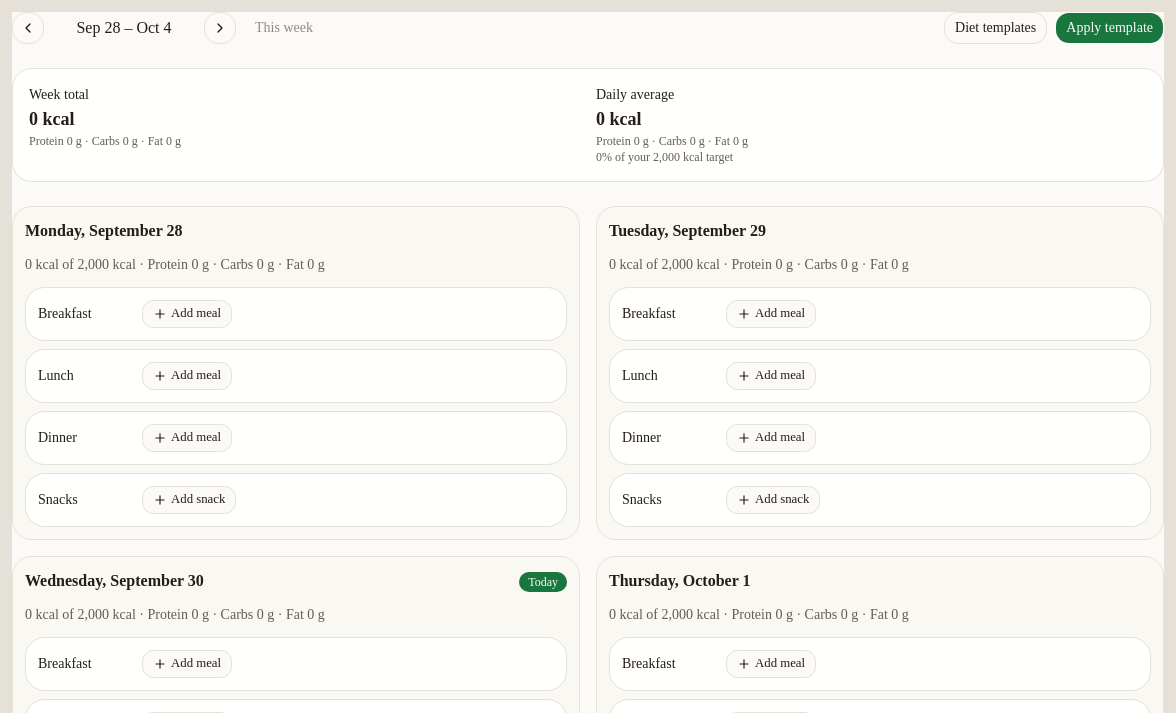
Test: PlanView › moves between weeks and back to this one
The width and height of the screenshot is (1176, 713).
Check: the text "Sep 28 – Oct 4" is shown, box [76,19,172,36]
Check: the button "This week" is disabled, box [244,12,324,44]
What coordinates should you click on to do the following:
click the button named "Next week"
I would click on:
 (220, 28)
Its box is [204,12,236,44].
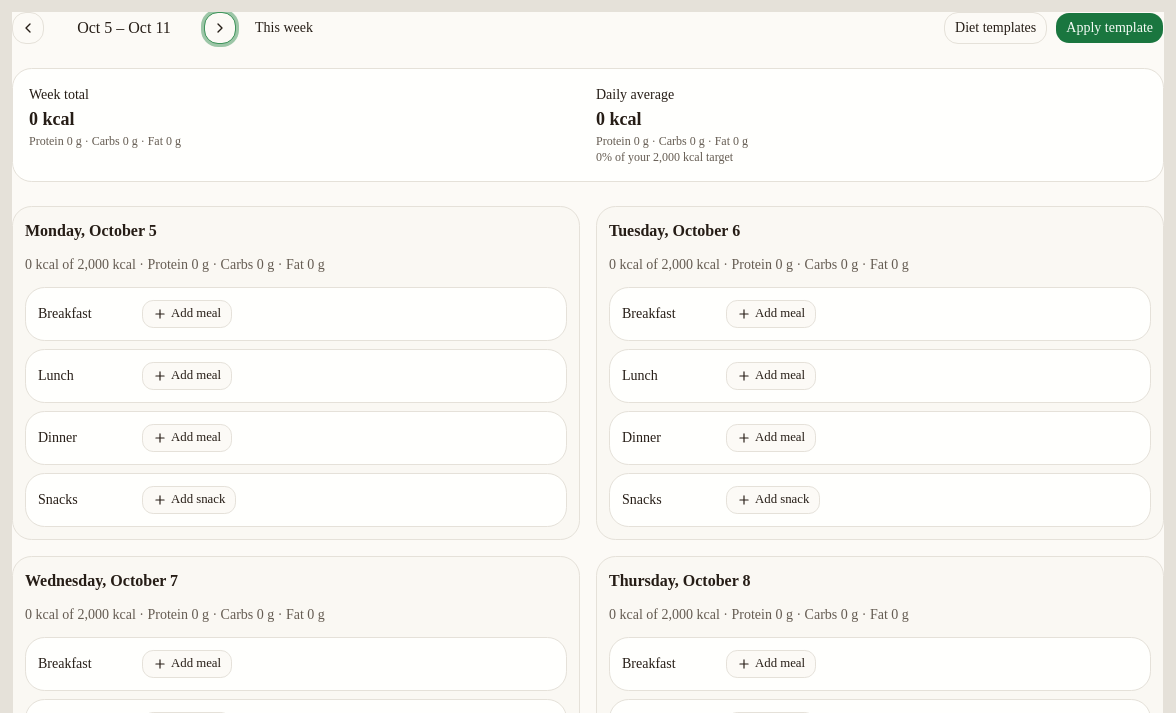
Check: the text "Oct 5 – Oct 11" is shown, box [77,19,171,36]
Check: the button "This week" is enabled, box [244,12,324,44]
What coordinates should you click on to do the following:
click the button named "Previous week"
I would click on:
 (28, 28)
Its box is [12,12,44,44].
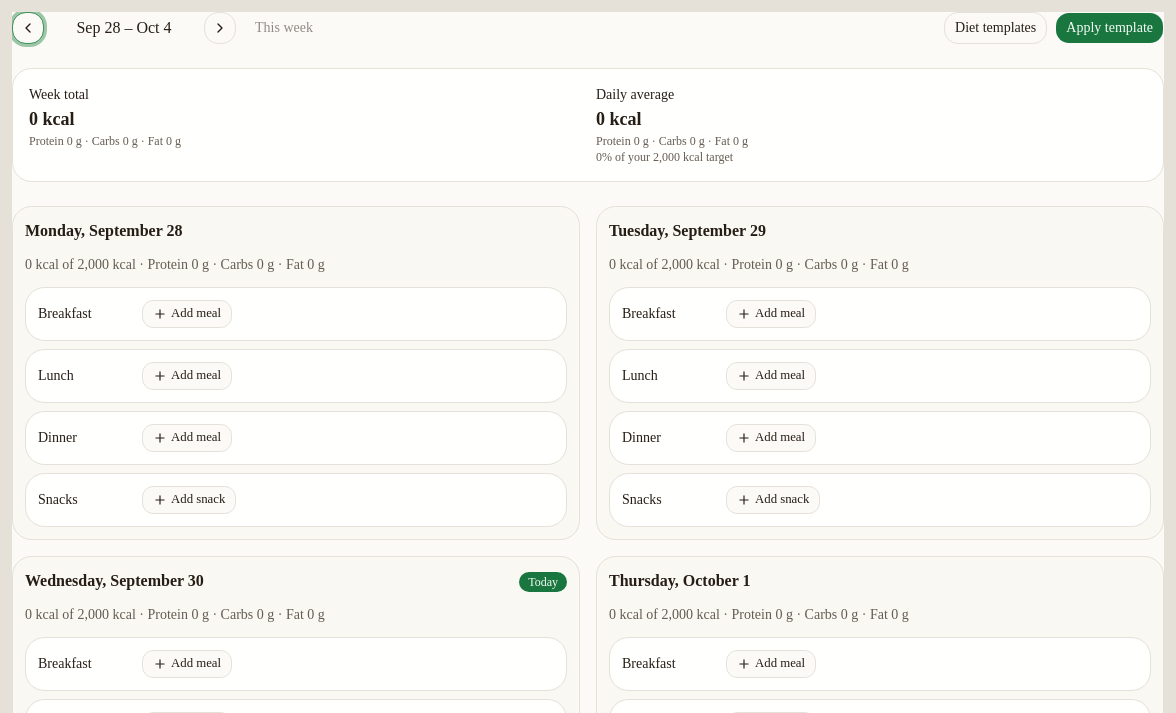
What coordinates should you click on to do the following:
click the button named "Previous week"
I would click on:
 (28, 28)
Its box is [12,12,44,44].
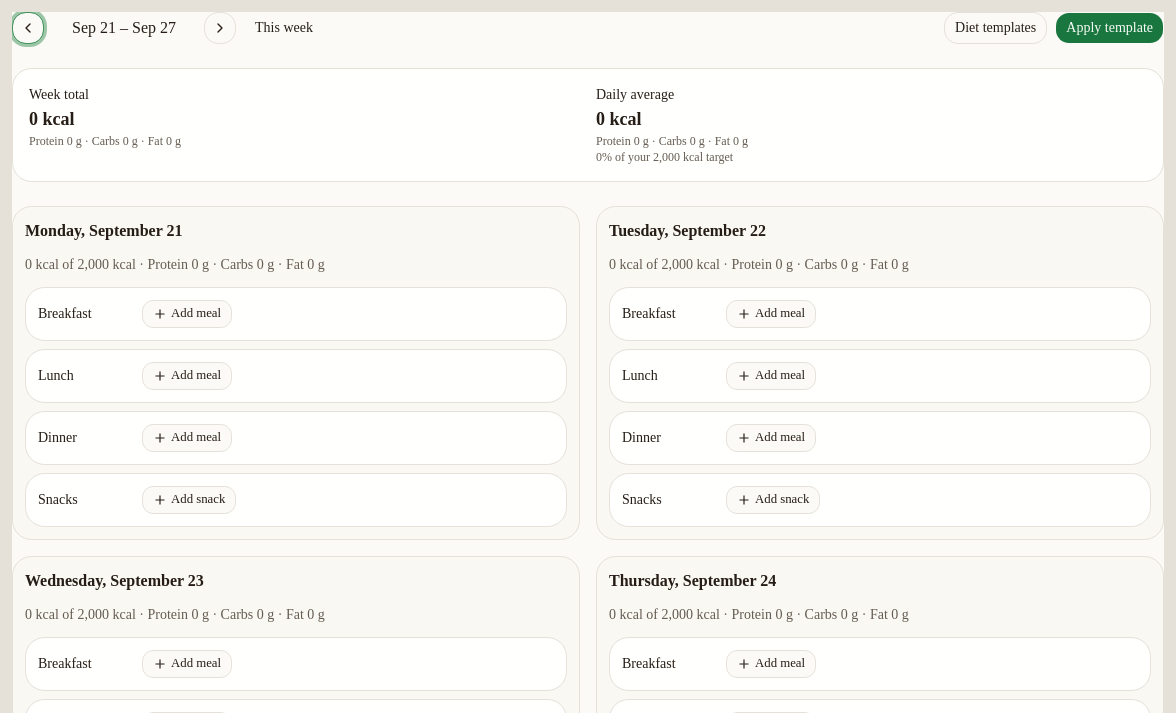
Check: the text "Sep 21 – Sep 27" is shown, box [72,19,176,36]
What coordinates should you click on to do the following:
click the button "This week"
I would click on:
 (284, 28)
Its box is [244,12,324,44].
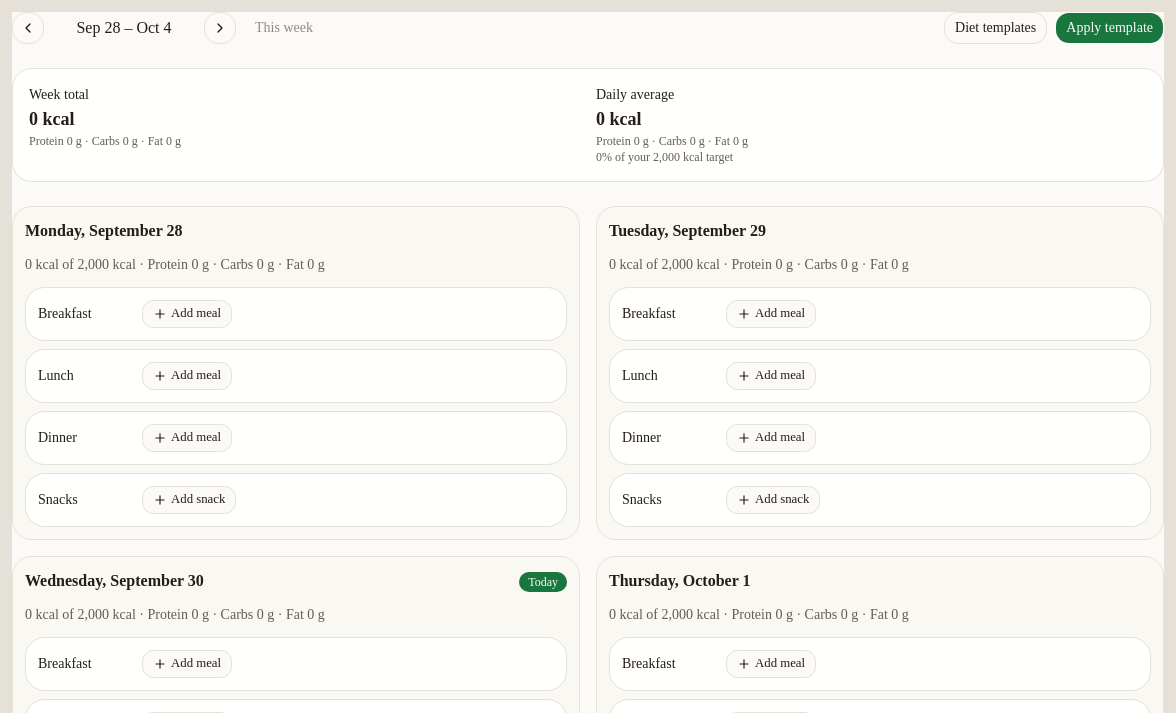
Check: the text "Sep 28 – Oct 4" is shown, box [76,19,172,36]
